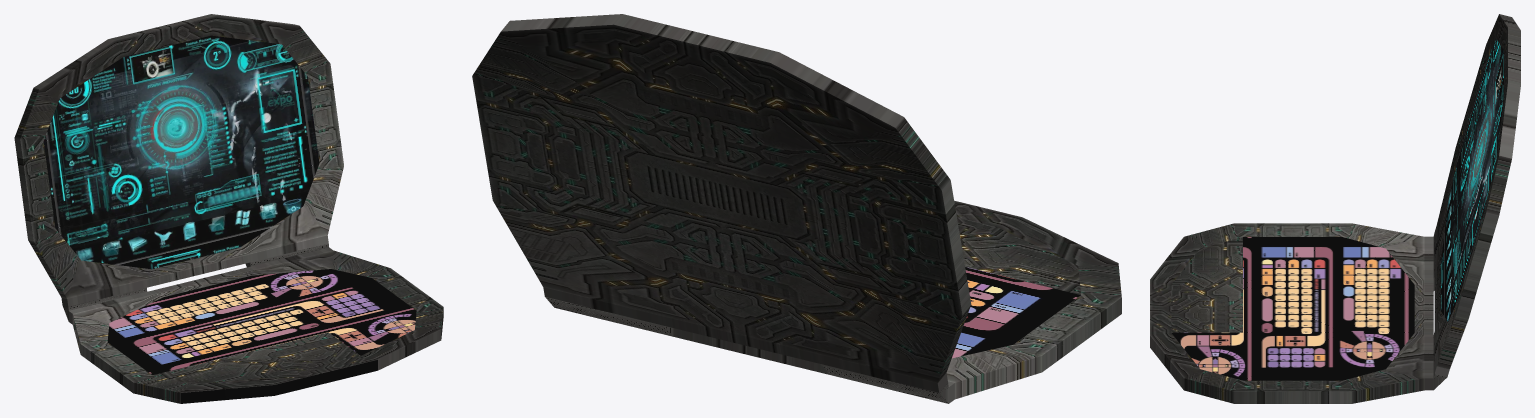
File: laptop-transformed.glb
3 renders of one model, left to right at view 1: azimuth 30°, elevation 25°; view 2: azimuth 150°, elevation 25°; view 3: azimuth 270°, elevation 25°, orthographic. The views are drawn at different scales.
Visible parts, largest first — view 1: MaterialFBXASC032FBXASC0352142171824, MaterialFBXASC032FBXASC0352142150880, MaterialFBXASC032FBXASC0352142171859; view 2: MaterialFBXASC032FBXASC0352142150880, MaterialFBXASC032FBXASC0352142171859; view 3: MaterialFBXASC032FBXASC0352142150880, MaterialFBXASC032FBXASC0352142171859, MaterialFBXASC032FBXASC0352142171824.
Boxes of the visible parts, x1=… form: MaterialFBXASC032FBXASC0352142171824: x1=43, y1=35, x2=319, y2=269; MaterialFBXASC032FBXASC0352142150880: x1=14, y1=14, x2=443, y2=403; MaterialFBXASC032FBXASC0352142171859: x1=107, y1=269, x2=416, y2=403; MaterialFBXASC032FBXASC0352142150880: x1=472, y1=14, x2=1121, y2=403; MaterialFBXASC032FBXASC0352142171859: x1=952, y1=267, x2=1080, y2=358; MaterialFBXASC032FBXASC0352142150880: x1=1150, y1=14, x2=1520, y2=403; MaterialFBXASC032FBXASC0352142171859: x1=1171, y1=237, x2=1414, y2=380; MaterialFBXASC032FBXASC0352142171824: x1=1440, y1=39, x2=1503, y2=321.
Bounding box in the file's own units: 4.62 × 3.38 × 4.29.
3 materials, 3 textured.
